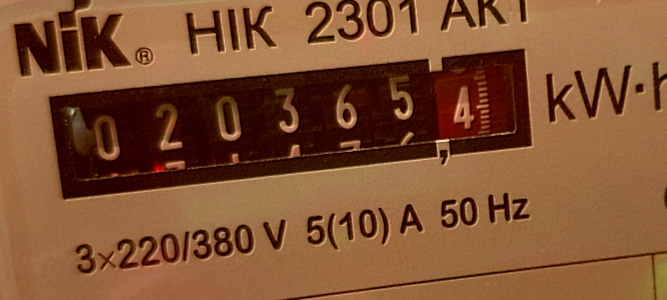0: (88, 109, 127, 167), (212, 93, 247, 145)
2: (151, 99, 186, 153)
3: (271, 85, 305, 137)
4: (448, 82, 476, 132)
5: (387, 73, 419, 123)
6: (330, 79, 361, 132)
screen: (34, 28, 553, 218)
